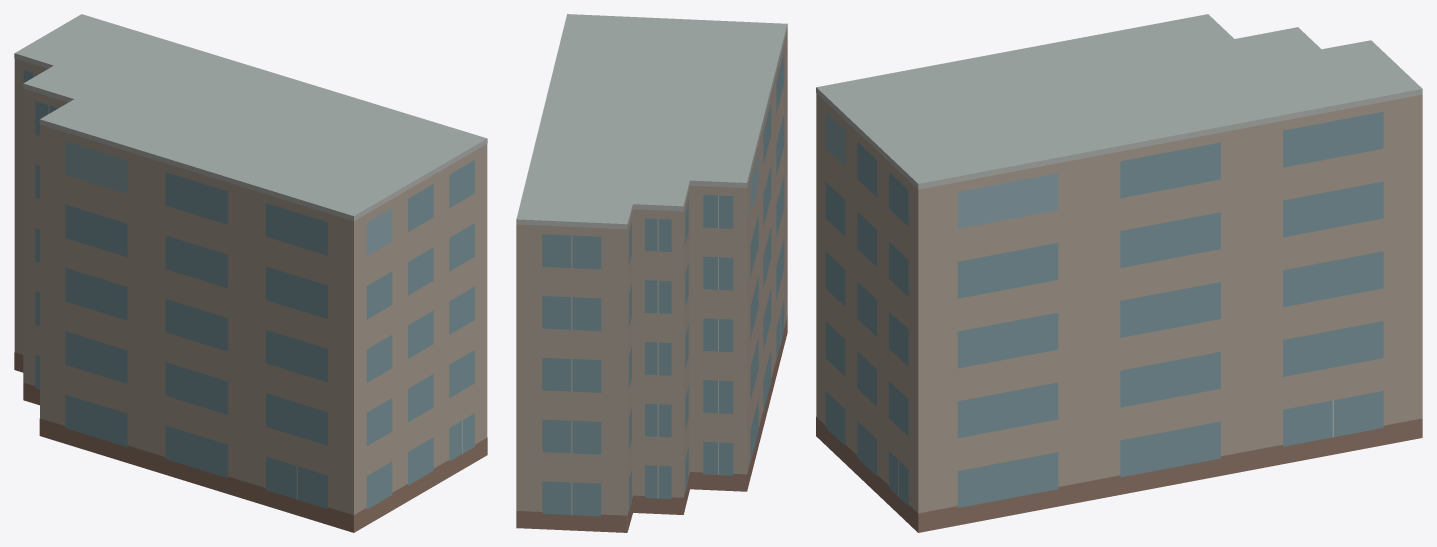
The model's file is survey-upis-32529569.glb.
The picture shows the model from 3 angles, left to right: view 1: azimuth 30°, elevation 25°; view 2: azimuth 150°, elevation 25°; view 3: azimuth 270°, elevation 25°; orthographic projection. The views are drawn at different scales.
Parts seen in each view (by area): view 1: survey-upis-32529569.tmp; view 2: survey-upis-32529569.tmp; view 3: survey-upis-32529569.tmp.
Part boxes in pixels (<box>): survey-upis-32529569.tmp: <box>14,14,487,532</box>; survey-upis-32529569.tmp: <box>516,14,787,532</box>; survey-upis-32529569.tmp: <box>816,14,1422,532</box>.
Bounding box in the file's own units: 15.68 × 15 × 23.64.
